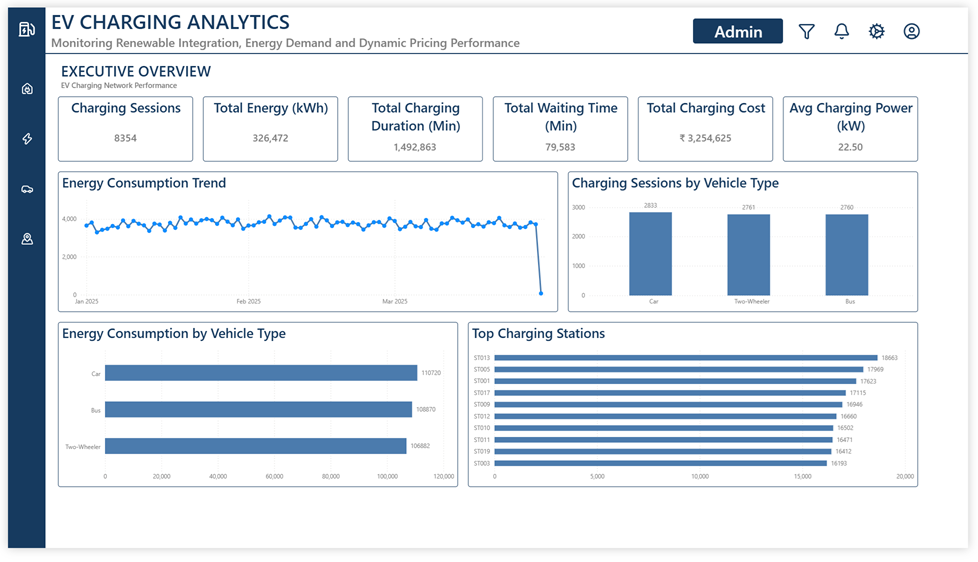

Layout of this report page (visuals, bound fields, positions):
{"tool":"powerbi","page":{"name":"EV CHARGING ANALYTICS","canvas":[1920,1080],"ordinal":0},"visuals":[{"type":"group","id":"g1","title":"Static_Home_page","box":[0,0,1920.7,1080],"z":0},{"type":"shape","title":"Nav_Bar","box":[0,0,75,1080],"z":0,"group":"g1"},{"type":"textbox","title":"EXECUTIVE OVERVIEW","box":[105,105,1697.5,95],"z":0,"group":"g2"},{"type":"shape","title":"line","box":[73,86,1847,12],"z":1000,"group":"g1"},{"type":"group","id":"g2","title":"Executive Overview","box":[100,105,1720,852.5],"z":1000},{"type":"cardVisual","title":"Charging Sessions","fields":{"Data":["FACTCHARGING.Total Sessions"]},"box":[100,177.5,270,130],"z":1000,"group":"g2"},{"type":"textbox","title":"EV CHARGING ANALYTICS","box":[76.7,0,1844,85],"z":2000,"group":"g1"},{"type":"cardVisual","title":"Total Energy (kWh)","fields":{"Data":["FACTCHARGING.Total Energy"]},"box":[390,177.5,270,130],"z":2000,"group":"g2"},{"type":"image","title":"EV_icon","box":[20,25,35,35],"z":3000,"group":"g1"},{"type":"cardVisual","title":"Total Charging Duration (Min)","fields":{"Data":["Sum(FACTCHARGING.CHARGING_DURATION)"]},"box":[679.5,177.8,269.4,130],"z":3000,"group":"g2"},{"type":"image","title":"Notification_icon","box":[1650,30,35,35],"z":4000,"group":"g1"},{"type":"cardVisual","title":"Total Waiting Time (Min)","fields":{"Data":["Sum(FACTCHARGING.WAITING_TIME)"]},"box":[970,177.5,270,130],"z":4000,"group":"g2"},{"type":"textbox","box":[1370,22,180,50],"z":5000,"group":"g1"},{"type":"cardVisual","title":"Total Charging Cost","fields":{"Data":["FACTCHARGING.Total Charging Cost"]},"box":[1260,177.8,270,130],"z":5000,"group":"g2"},{"type":"image","title":"Filters_icon","box":[1580,30,35,35],"z":6000,"group":"g1"},{"type":"cardVisual","title":"Avg Charging Power (kW)","fields":{"Data":["DIMCHARGER.Avg Charge Power"]},"box":[1550,177.8,270,130],"z":6000,"group":"g2"},{"type":"image","title":"Settings_icon","box":[1720,30,35,35],"z":7000,"group":"g1"},{"type":"lineChart","title":"Energy Consumption Trend","fields":{"Category":["DIMDATE.Date"],"Y":["FACTCHARGING.Total Energy"]},"box":[100,327,1000,280],"z":7000,"group":"g2"},{"type":"image","title":"User_icon","box":[1790,30,35,35],"z":8000,"group":"g1"},{"type":"columnChart","title":"Charging Sessions by Vehicle Type","fields":{"Category":["DIMVEHICLE.VEHICLE_TYPE"],"Y":["FACTCHARGING.Total Sessions"]},"box":[1120,327,700,280],"z":8000,"group":"g2"},{"type":"image","title":"Home_icon","box":[25,150,25,25],"z":9000,"group":"g1"},{"type":"barChart","title":"Energy Consumption by Vehicle Type","fields":{"Category":["DIMVEHICLE.VEHICLE_TYPE"],"Y":["FACTCHARGING.Total Energy"]},"box":[100,627,800,330],"z":9000,"group":"g2"},{"type":"image","title":"Charge_icon","box":[25,250,25,25],"z":10000,"group":"g1"},{"type":"barChart","title":"Top Charging Stations","fields":{"Category":["DIMSTATION.STATION_ID"],"Y":["FACTCHARGING.Total Energy"]},"box":[920,627.5,900,330],"z":10000,"group":"g2"},{"type":"image","title":"Car_icon","box":[25,350,25,25],"z":11000,"group":"g1"},{"type":"image","title":"Location_icon","box":[25,450,25,25],"z":12000,"group":"g1"}]}

Visuals, with their boxes on the page's 1920x1080 design canvas (x1, y1, x2, y2). These are canvas units, not pixel positions in the 978x562 screenshot, which may show the page scaled, cropped or inside an application window:
"Static_Home_page" group: x1=0, y1=0, x2=1921, y2=1080
"Nav_Bar" shape: x1=0, y1=0, x2=75, y2=1080
"EXECUTIVE OVERVIEW" textbox: x1=105, y1=105, x2=1802, y2=200
"line" shape: x1=73, y1=86, x2=1920, y2=98
"Executive Overview" group: x1=100, y1=105, x2=1820, y2=958
"Charging Sessions" cardVisual: x1=100, y1=178, x2=370, y2=308
"EV CHARGING ANALYTICS" textbox: x1=77, y1=0, x2=1921, y2=85
"Total Energy (kWh)" cardVisual: x1=390, y1=178, x2=660, y2=308
"EV_icon" image: x1=20, y1=25, x2=55, y2=60
"Total Charging Duration (Min)" cardVisual: x1=680, y1=178, x2=949, y2=308
"Notification_icon" image: x1=1650, y1=30, x2=1685, y2=65
"Total Waiting Time (Min)" cardVisual: x1=970, y1=178, x2=1240, y2=308
textbox: x1=1370, y1=22, x2=1550, y2=72
"Total Charging Cost" cardVisual: x1=1260, y1=178, x2=1530, y2=308
"Filters_icon" image: x1=1580, y1=30, x2=1615, y2=65
"Avg Charging Power (kW)" cardVisual: x1=1550, y1=178, x2=1820, y2=308
"Settings_icon" image: x1=1720, y1=30, x2=1755, y2=65
"Energy Consumption Trend" lineChart: x1=100, y1=327, x2=1100, y2=607
"User_icon" image: x1=1790, y1=30, x2=1825, y2=65
"Charging Sessions by Vehicle Type" columnChart: x1=1120, y1=327, x2=1820, y2=607
"Home_icon" image: x1=25, y1=150, x2=50, y2=175
"Energy Consumption by Vehicle Type" barChart: x1=100, y1=627, x2=900, y2=957
"Charge_icon" image: x1=25, y1=250, x2=50, y2=275
"Top Charging Stations" barChart: x1=920, y1=628, x2=1820, y2=958
"Car_icon" image: x1=25, y1=350, x2=50, y2=375
"Location_icon" image: x1=25, y1=450, x2=50, y2=475
